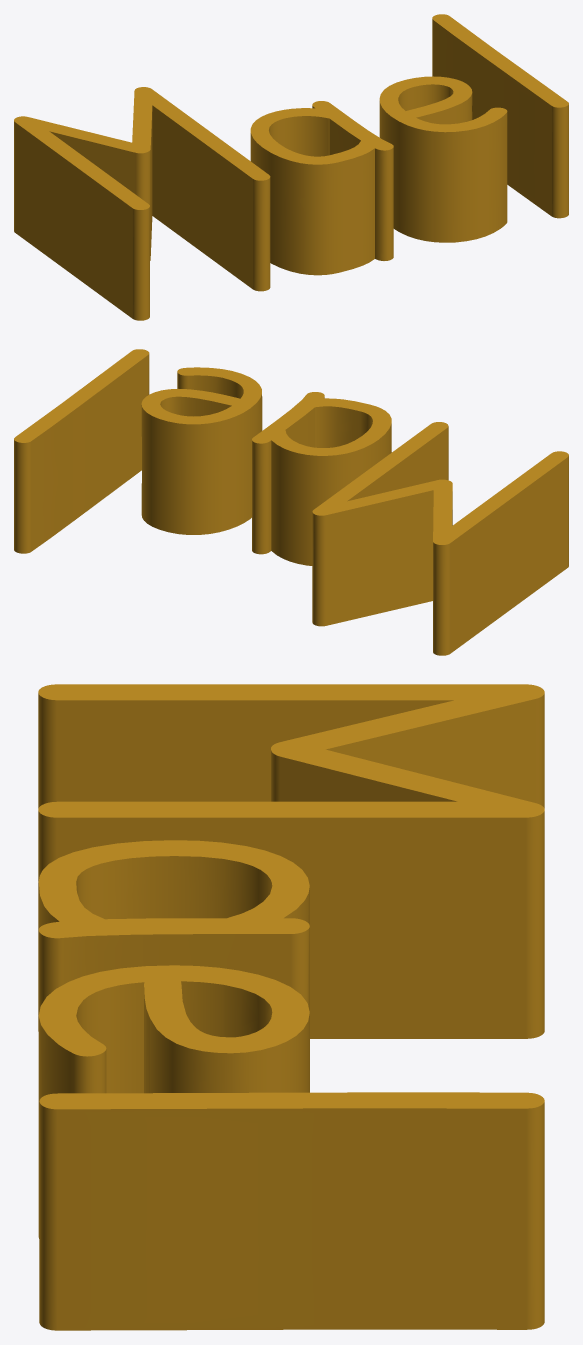
File: asset.glb
3 renders of one model, top to bottom at view 1: azimuth 30°, elevation 25°; view 2: azimuth 150°, elevation 25°; view 3: azimuth 270°, elevation 25°, orthographic. The views are drawn at different scales.
Visible parts, largest first — view 1: Extrude; view 2: Extrude; view 3: Extrude.
Part boxes in pixels (box(x1,y1,x2,y2)): Extrude: box(14, 14, 568, 320); Extrude: box(14, 349, 568, 655); Extrude: box(38, 684, 544, 1330).
Bounding box in the file's own units: 0.0206 × 0.005 × 0.0104.
